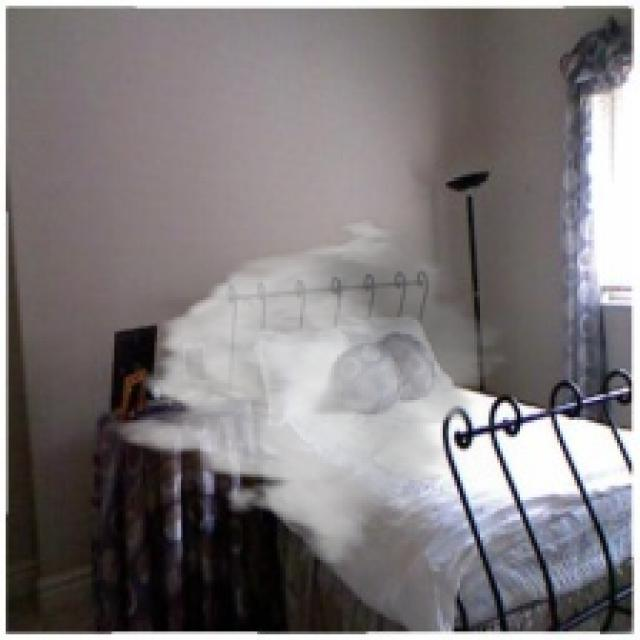smoke: (117, 214, 517, 566)
